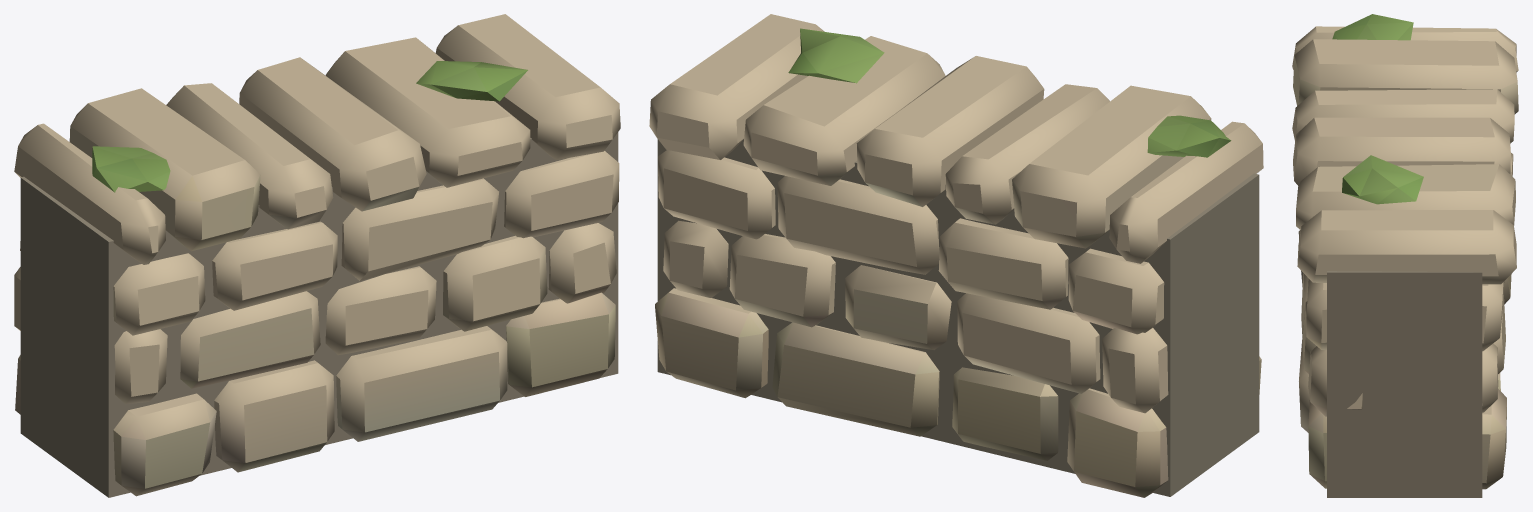
The model's file is stone-wall.glb.
3 renders of one model, left to right at view 1: azimuth 30°, elevation 25°; view 2: azimuth 150°, elevation 25°; view 3: azimuth 270°, elevation 25°, orthographic. The views are drawn at different scales.
Visible parts, largest first — view 1: stone-wall; view 2: stone-wall; view 3: stone-wall.
Boxes of the visible parts, bbox=[...] form: stone-wall: bbox=[14, 14, 620, 497]; stone-wall: bbox=[649, 14, 1263, 497]; stone-wall: bbox=[1292, 14, 1518, 497].
Size of the model in its own units: 1 by 0.5939 by 0.4374.
